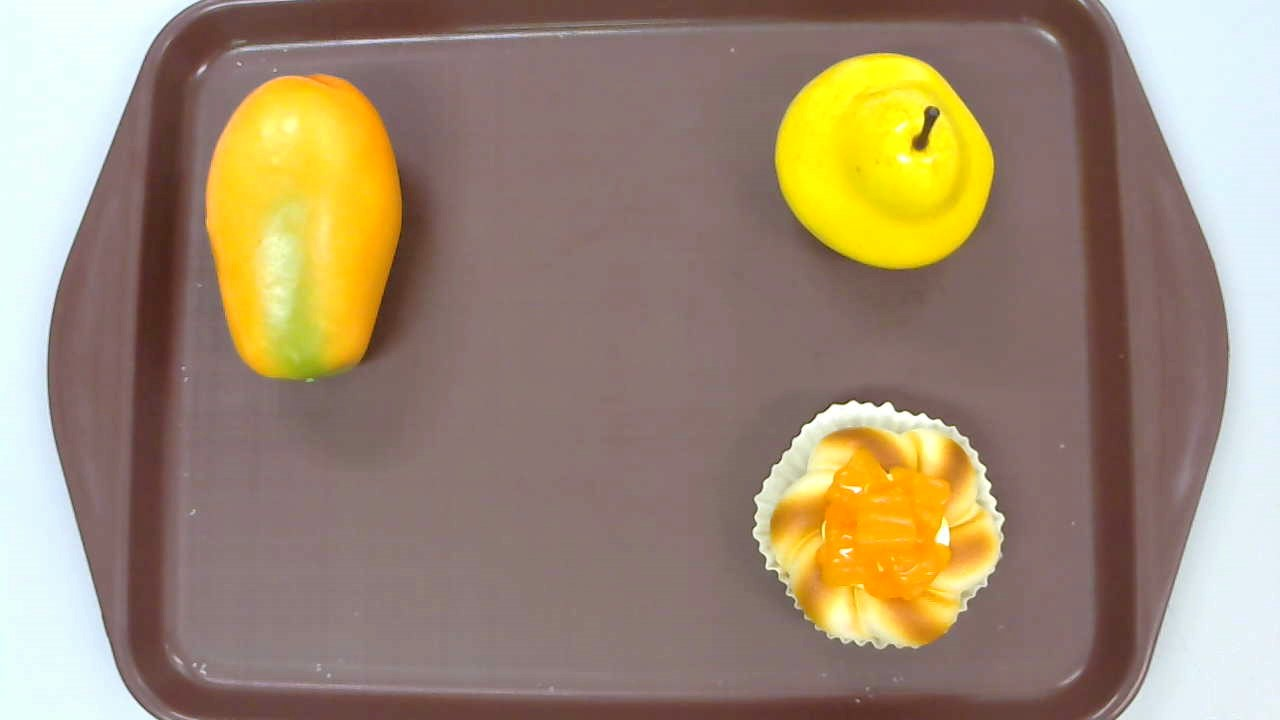mango tart: (752, 398, 1007, 653)
papya: (204, 74, 403, 385)
yellow pear: (774, 53, 994, 270)
